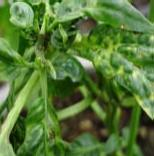Tomato leaf mosaic virus: (82, 21, 154, 151), (17, 97, 62, 156), (0, 37, 35, 86)
